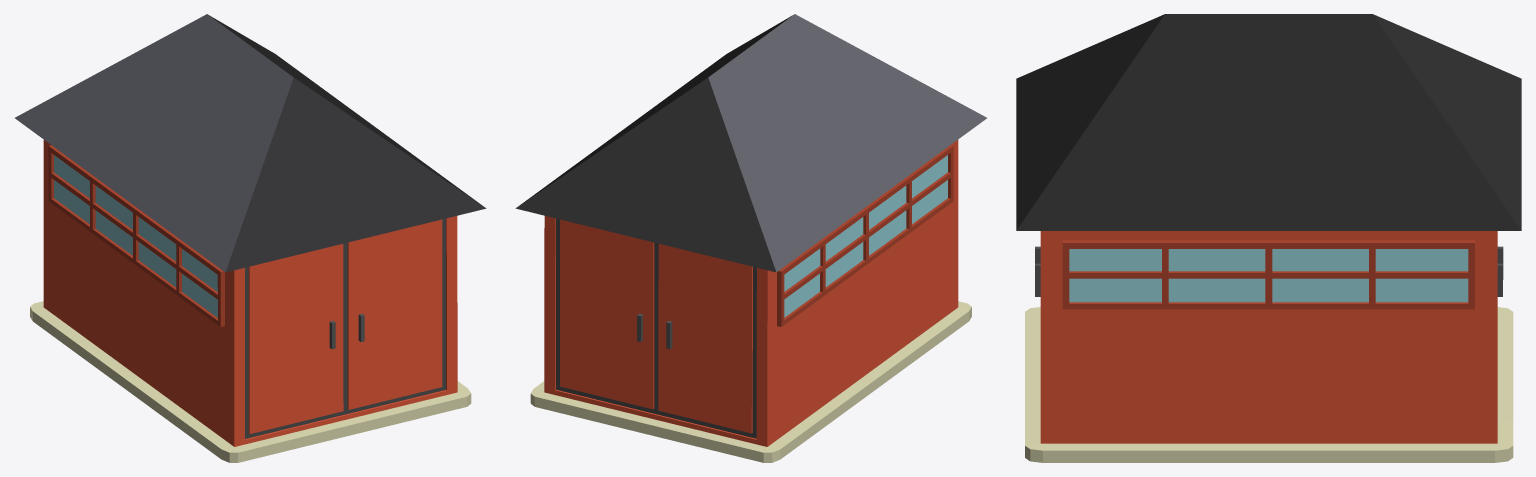
Rendered from Ambar_1.fbx.
The picture shows the model from 3 angles, left to right: view 1: azimuth 30°, elevation 25°; view 2: azimuth 150°, elevation 25°; view 3: azimuth 270°, elevation 25°; orthographic projection. The views are drawn at different scales.
Parts seen in each view (by area): view 1: Ambar; view 2: Ambar; view 3: Ambar.
Part boxes in pixels (x1,y1,x2,y2): Ambar: [15, 14, 486, 462]; Ambar: [515, 14, 986, 462]; Ambar: [1016, 14, 1521, 462].
Size of the model in its own units: 1628 by 1875 by 2280.
